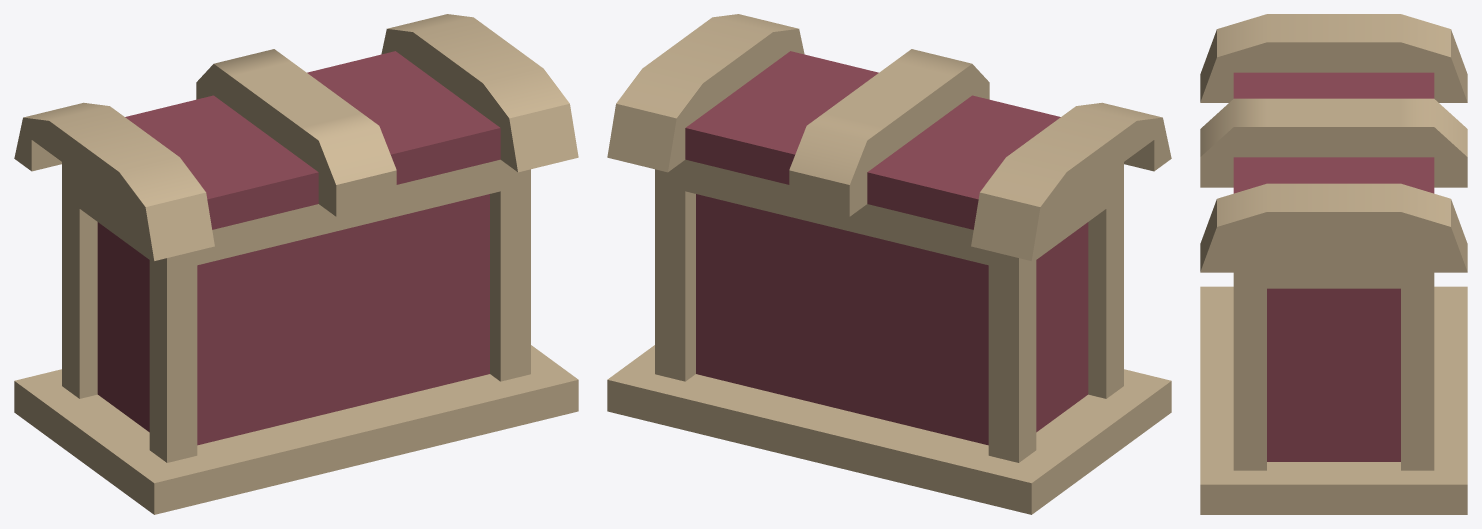
File: ClosedTreasureChest.fbx
3 renders of one model, left to right at view 1: azimuth 30°, elevation 25°; view 2: azimuth 150°, elevation 25°; view 3: azimuth 270°, elevation 25°, orthographic. The views are drawn at different scales.
Visible parts, largest first — view 1: ClosedTreasureChest; view 2: ClosedTreasureChest; view 3: ClosedTreasureChest.
Part boxes in pixels (x1,y1,x2,y2): ClosedTreasureChest: (14,14,578,514); ClosedTreasureChest: (607,14,1171,514); ClosedTreasureChest: (1200,14,1467,514).
Size of the model in its own units: 350 by 250 by 200.
